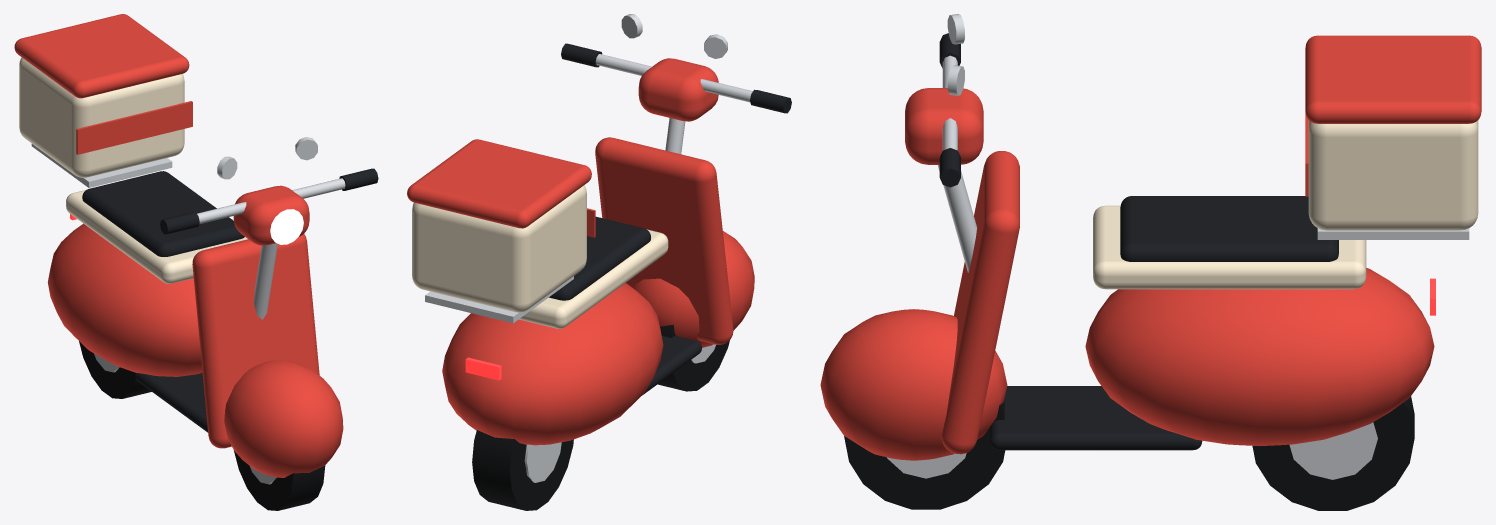
File: vespetta-scooter.glb
The picture shows the model from 3 angles, left to right: view 1: azimuth 30°, elevation 25°; view 2: azimuth 150°, elevation 25°; view 3: azimuth 270°, elevation 25°; orthographic projection. The views are drawn at different scales.
Parts seen in each view (by area): view 1: scooter paint, scooter cream, scooter dark, scooter chrome, scooter tyre, scooter lamp; view 2: scooter paint, scooter cream, scooter tyre, scooter dark, scooter chrome, scooter tail; view 3: scooter paint, scooter cream, scooter dark, scooter tyre, scooter chrome.
Part boxes in pixels (x1=…): scooter paint: x1=14, y1=14, x2=343, y2=477; scooter cream: x1=19, y1=57, x2=247, y2=283; scooter dark: x1=82, y1=168, x2=378, y2=432; scooter chrome: x1=31, y1=137, x2=345, y2=484; scooter tyre: x1=79, y1=341, x2=325, y2=510; scooter lamp: x1=270, y1=209, x2=303, y2=244; scooter paint: x1=407, y1=58, x2=754, y2=445; scooter cream: x1=412, y1=185, x2=668, y2=328; scooter tyre: x1=472, y1=324, x2=729, y2=510; scooter dark: x1=549, y1=43, x2=791, y2=395; scooter chrome: x1=425, y1=14, x2=752, y2=482; scooter tail: x1=465, y1=357, x2=501, y2=380; scooter paint: x1=820, y1=35, x2=1481, y2=460; scooter cream: x1=1093, y1=120, x2=1478, y2=289; scooter dark: x1=939, y1=33, x2=1338, y2=450; scooter tyre: x1=844, y1=396, x2=1414, y2=510; scooter chrome: x1=887, y1=14, x2=1469, y2=479.
Bounding box in the file's own units: 1.06 × 1.67 × 2.18.
